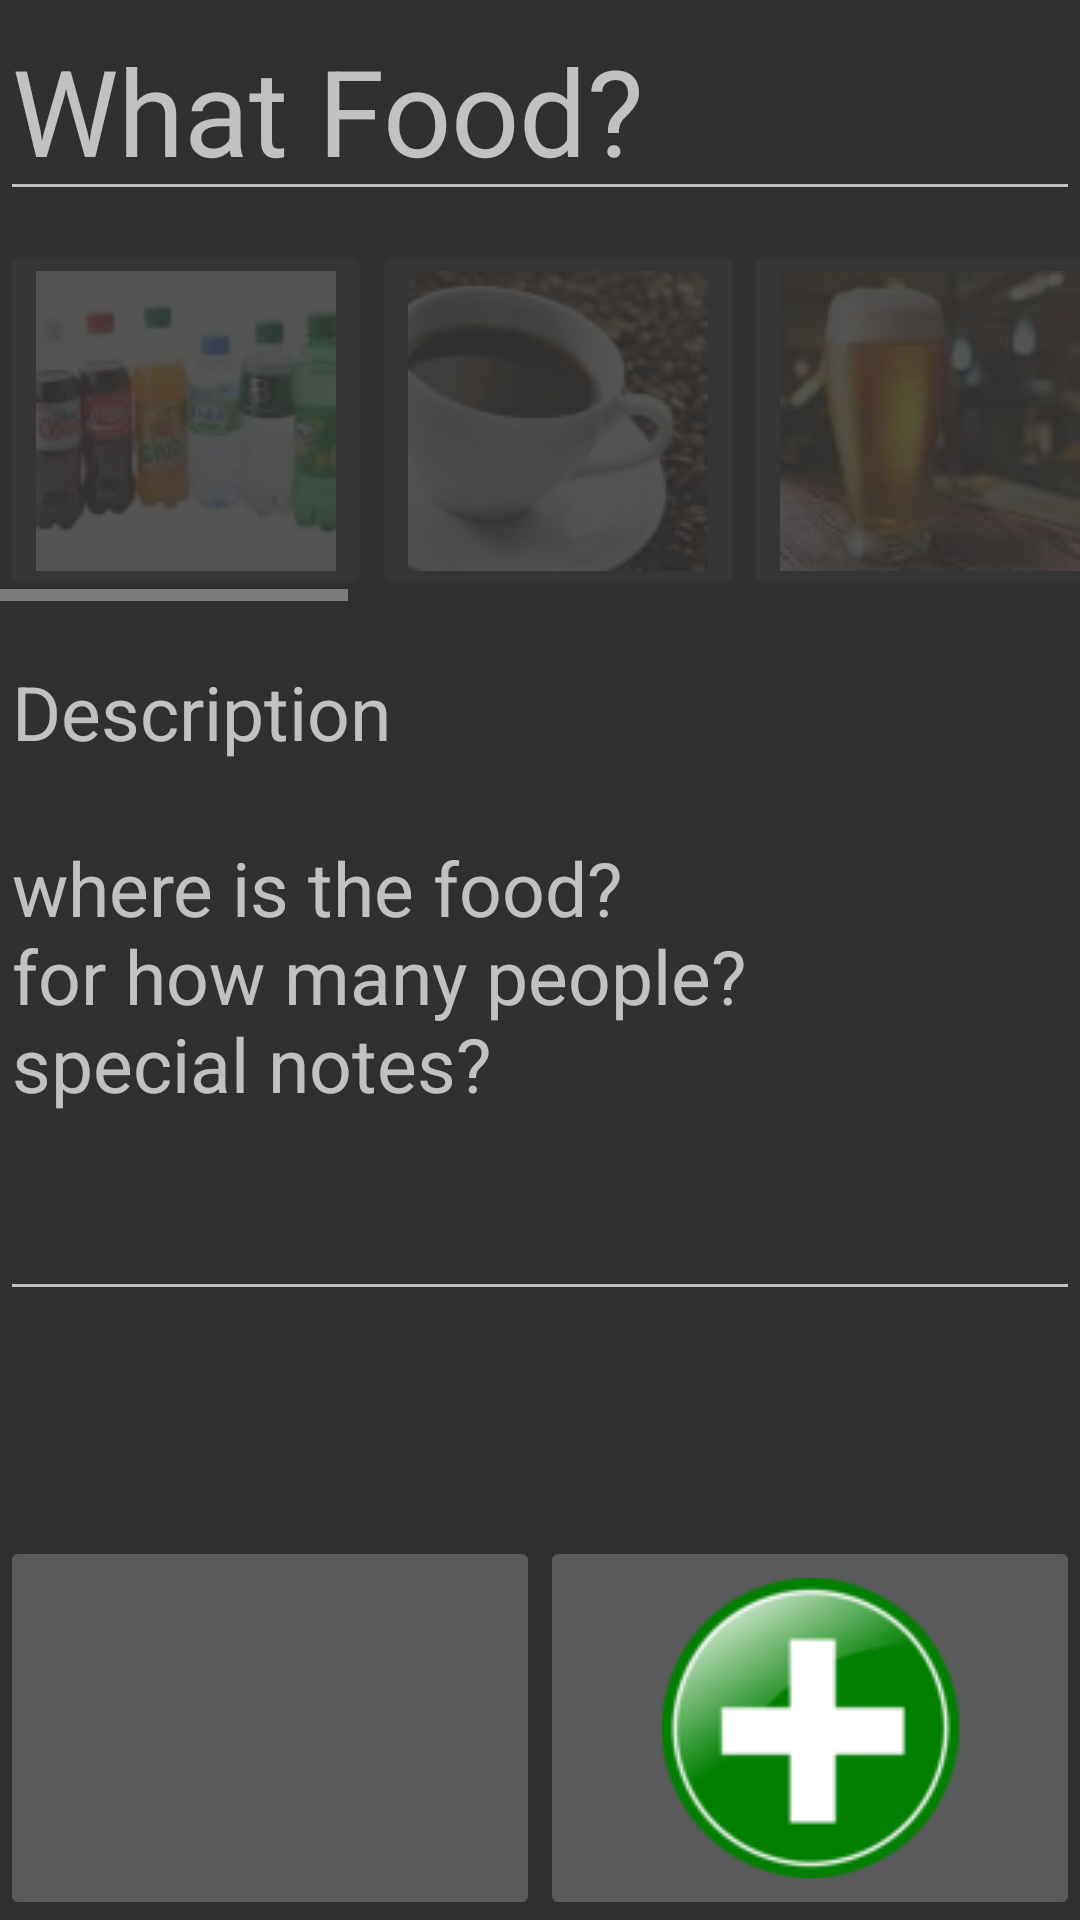

Where to tap for icons on this 1080px×1920px app screen, as (x=x, y=y):
beer: (x=930, y=421)
coffee: (x=558, y=421)
drinks icon: (x=174, y=436)
